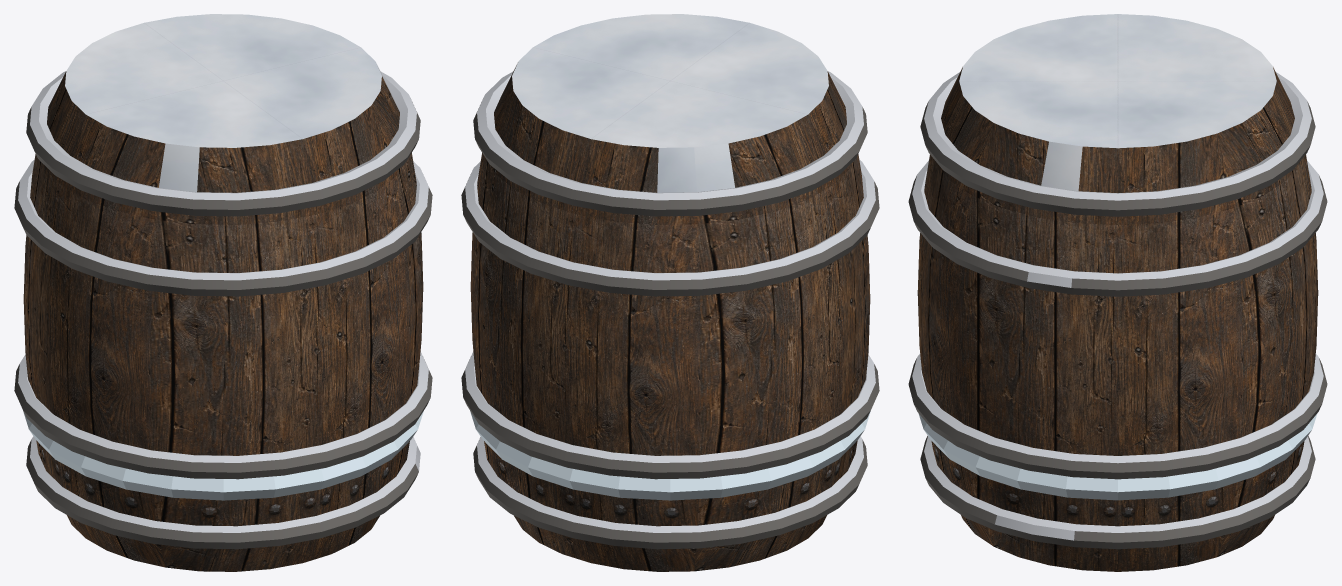
The model's file is frozen-barrel-v01.glb.
3 renders of one model, left to right at view 1: azimuth 30°, elevation 25°; view 2: azimuth 150°, elevation 25°; view 3: azimuth 270°, elevation 25°, orthographic.
Visible parts, largest first — view 1: frozen-barrel; view 2: frozen-barrel; view 3: frozen-barrel.
Boxes of the visible parts, <box> form: frozen-barrel: <box>14,14,432,571</box>; frozen-barrel: <box>461,14,879,571</box>; frozen-barrel: <box>908,14,1327,571</box>.
Size of the model in its own units: 1.17 by 1.3 by 1.17.
Materials: 4 (2 with a texture image).
